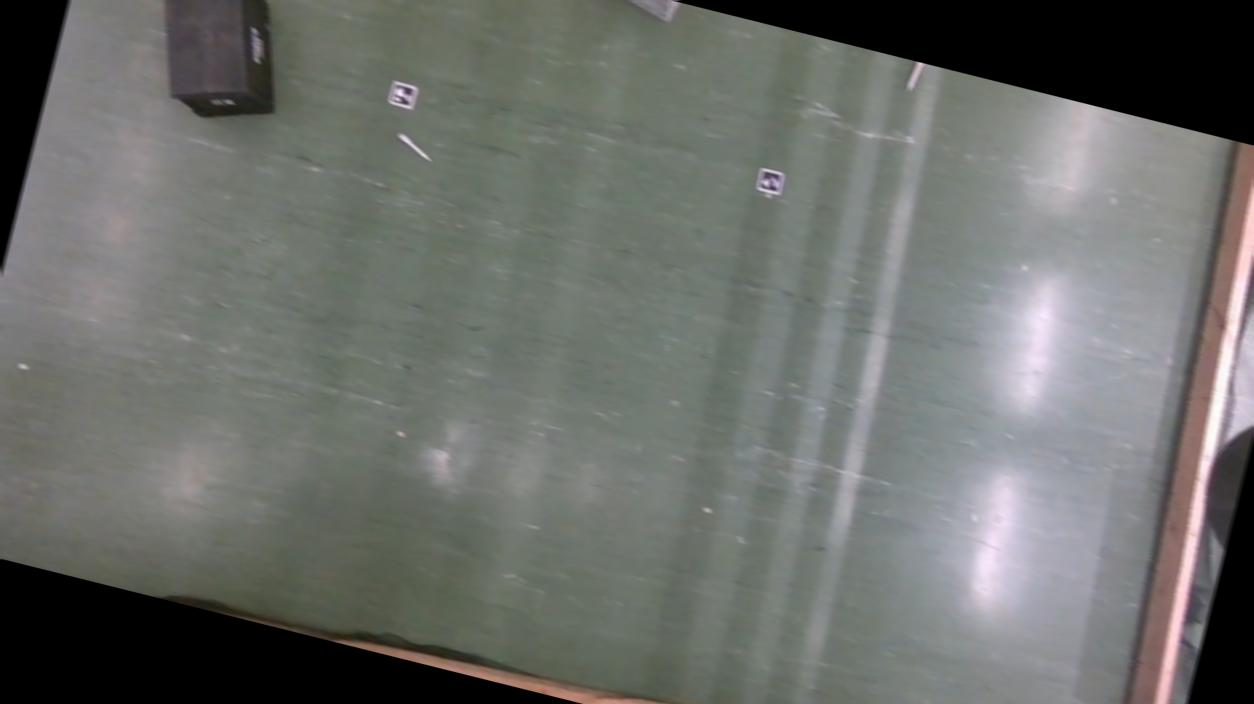probes: (394, 134, 432, 162), (905, 60, 923, 90)
rako: (132, 0, 302, 135)
